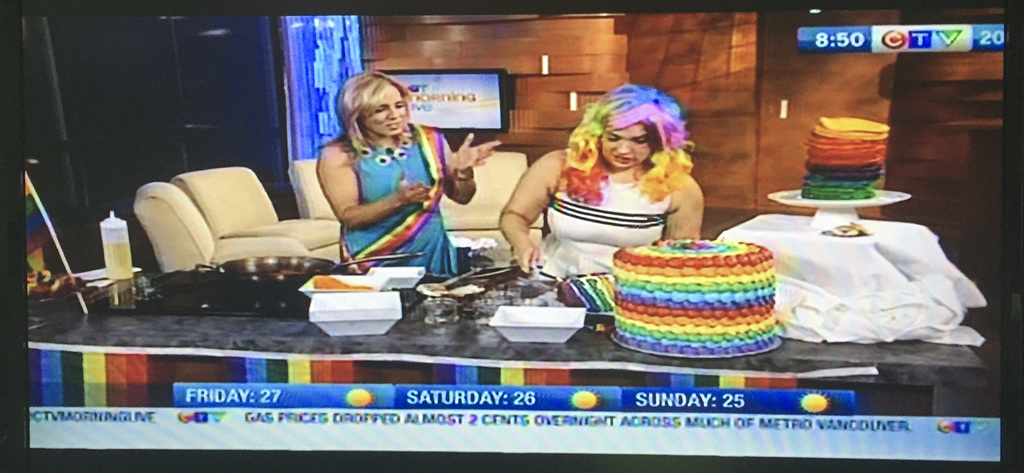Couch: (101, 142, 360, 300), (293, 151, 545, 261)
